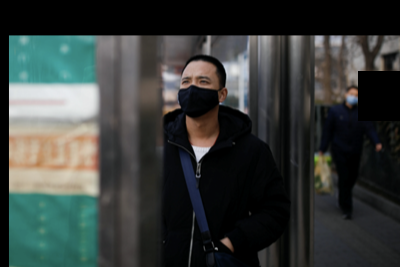with_mask: (176, 72, 217, 118), (344, 91, 358, 106)
